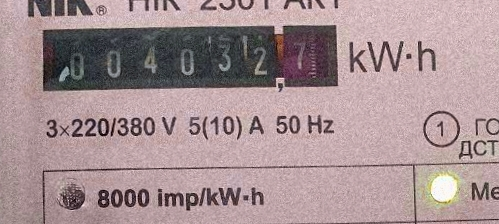0: (102, 46, 123, 80), (175, 44, 196, 78), (66, 48, 86, 81)
2: (249, 43, 269, 77)
3: (213, 41, 232, 73)
4: (138, 42, 160, 79)
7: (290, 38, 308, 72)
screen: (30, 11, 346, 108)
